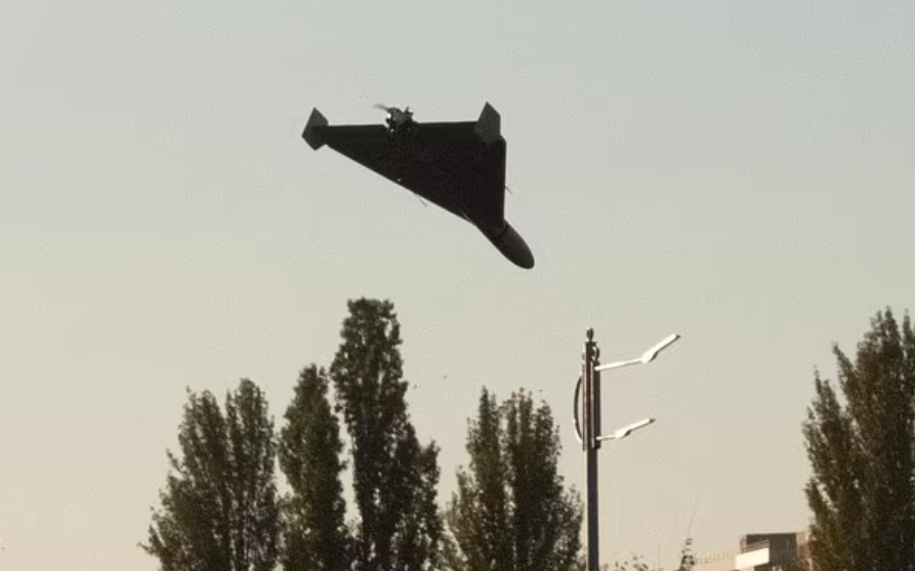shahed: (300, 98, 536, 271)
